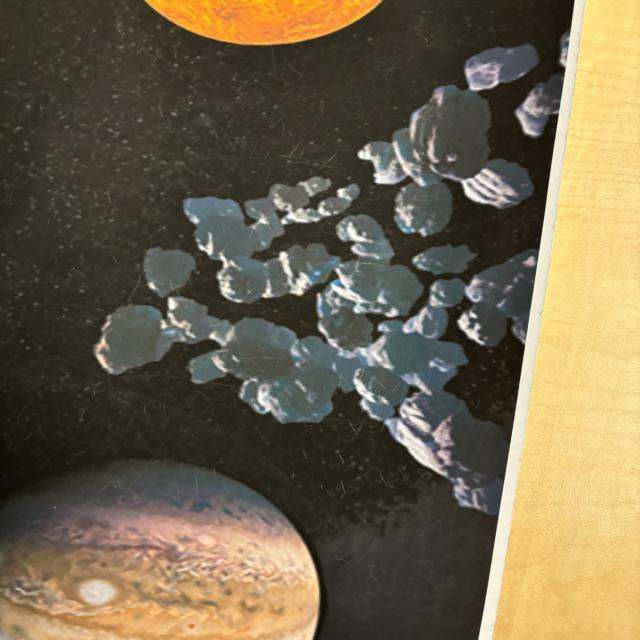Asteroids: (92, 29, 570, 518)
Jupiter: (2, 452, 321, 640)
Venus: (138, 0, 386, 48)
